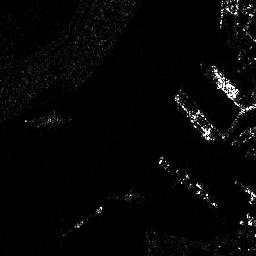ship: (172, 93, 214, 141), (211, 64, 241, 101)
